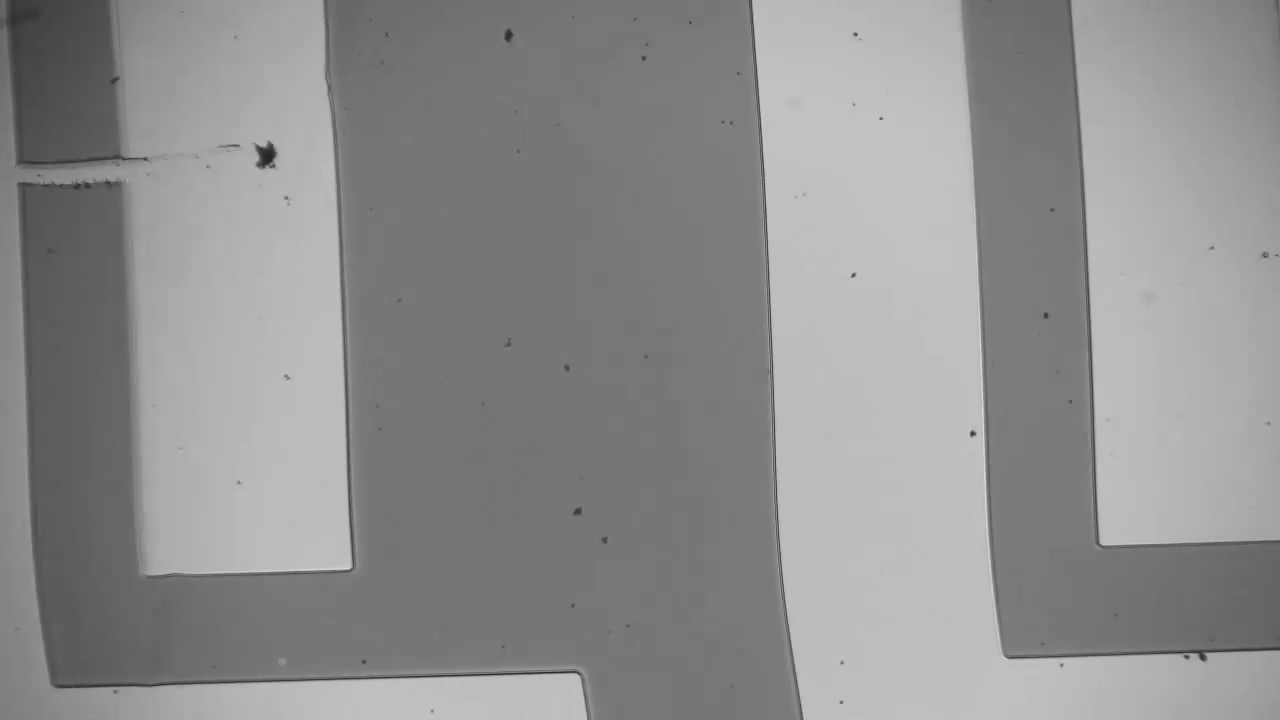Short_circuit: (1, 145, 154, 208)
